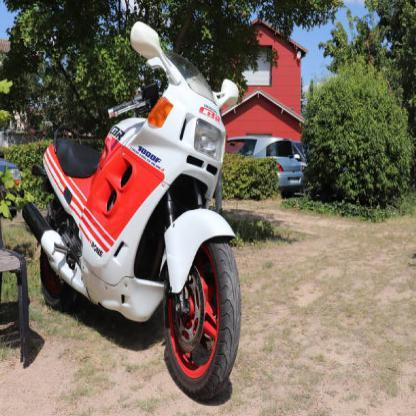Motorcycle: (25, 16, 252, 407)
